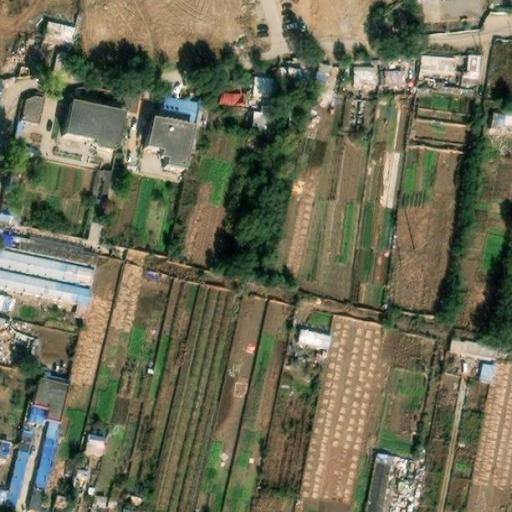building: (4, 404, 48, 511), (65, 99, 125, 150), (148, 115, 198, 171), (31, 420, 60, 509), (32, 372, 70, 422), (365, 454, 393, 512), (419, 53, 480, 77), (160, 95, 199, 124), (449, 337, 498, 360), (92, 481, 122, 510), (313, 64, 338, 98), (89, 165, 115, 197), (45, 20, 75, 47), (252, 111, 289, 132), (255, 79, 284, 103), (282, 68, 303, 99), (23, 95, 45, 124), (298, 331, 332, 349), (85, 432, 106, 458), (487, 109, 512, 129), (352, 66, 375, 87), (72, 469, 87, 497), (220, 88, 244, 105), (384, 70, 403, 85), (53, 494, 69, 510), (477, 366, 492, 382), (0, 293, 13, 311), (0, 319, 7, 341), (417, 507, 434, 512)
